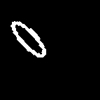chain: (11, 21, 45, 56)
